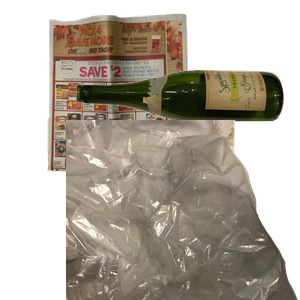glass: (74, 67, 300, 181)
paper: (44, 11, 229, 181)
plastic: (94, 120, 267, 300)
trash: (66, 120, 300, 300)
